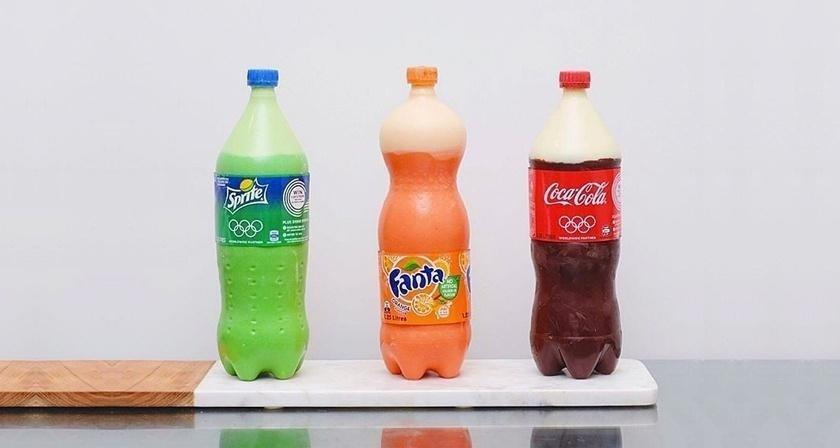bottle-plastic: (210, 63, 316, 383), (372, 60, 477, 382), (522, 65, 628, 381)
